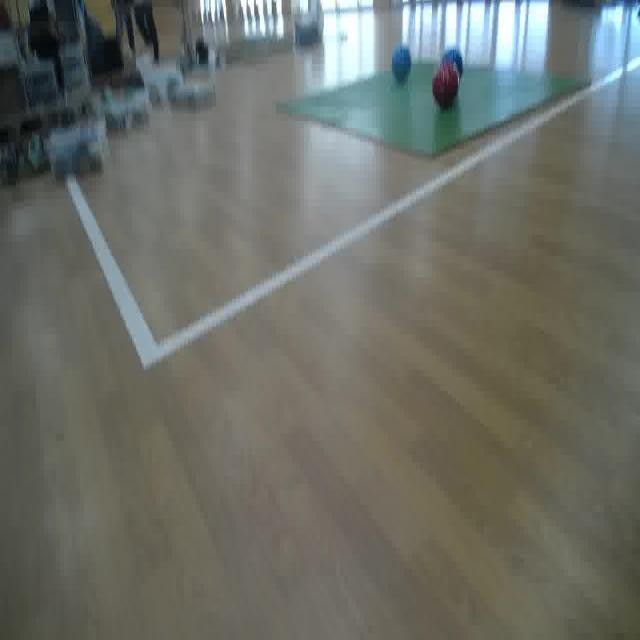blue_ball: (390, 43, 414, 87), (439, 45, 464, 83)
red_ball: (429, 69, 458, 112)
